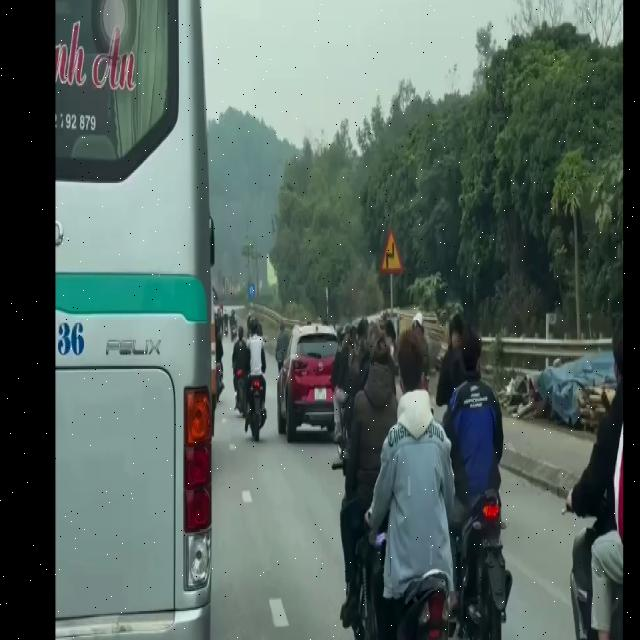no_helmet: (399, 330, 424, 397)
